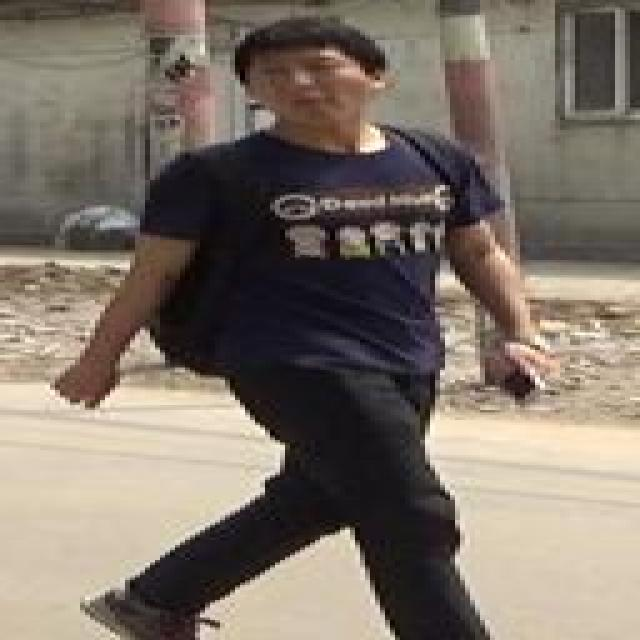adult: (48, 19, 554, 640)
